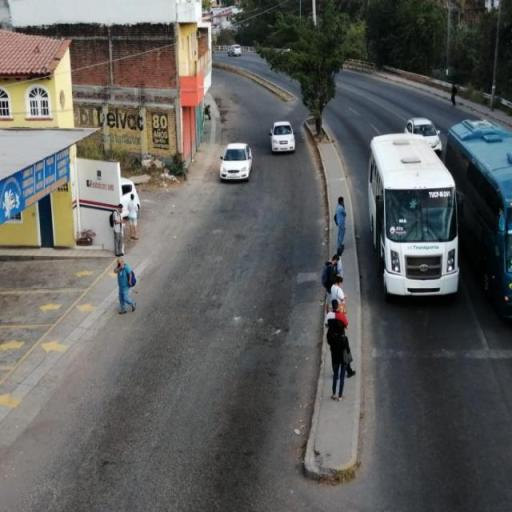person: (324, 299, 359, 378), (329, 319, 351, 406), (115, 257, 139, 316), (323, 255, 343, 321), (330, 277, 347, 338), (111, 207, 127, 260), (335, 198, 350, 254), (127, 195, 142, 244), (333, 244, 346, 294), (449, 82, 459, 112)
